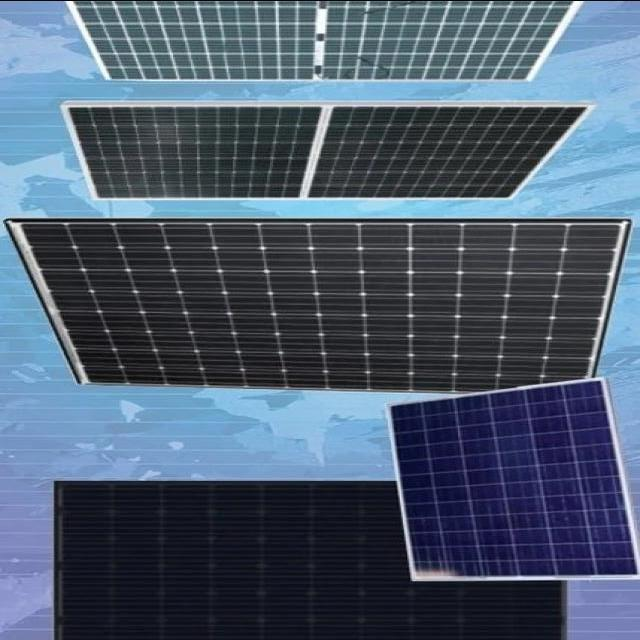Photovoltaic-Panel: (9, 219, 627, 391), (56, 480, 562, 640), (387, 378, 636, 578)
